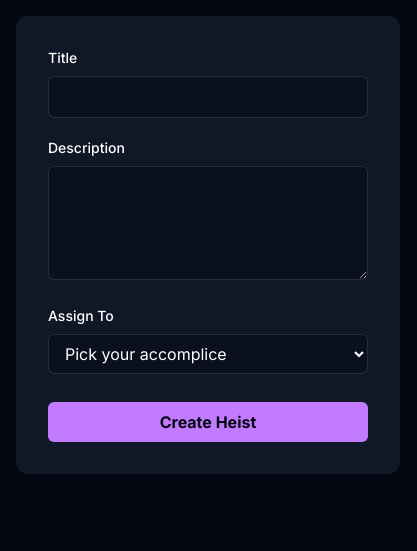
CreateHeistForm › asks for the missing pieces rather than saving a half-built heist
In the field labelled "Title": (208, 97) x1=48 y1=76 x2=368 y2=118, type "Liberate the good stapler"
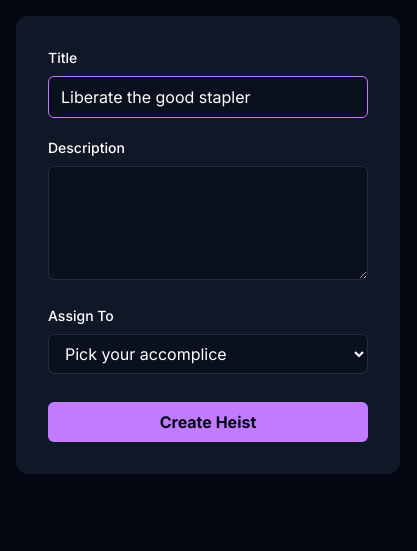
Click the button "Create Heist": (208, 422) x1=48 y1=402 x2=368 y2=442
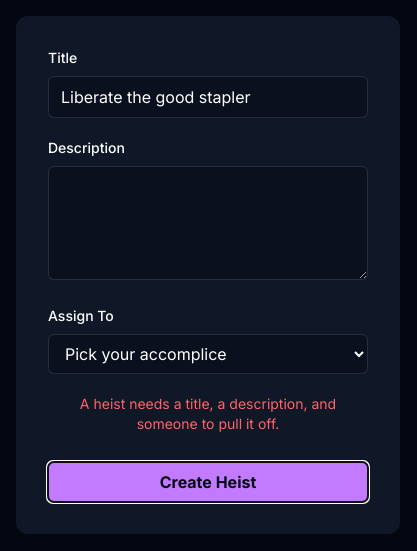
expect the message reads "A heist needs a title, a description, and someone to pull it off.": met, box x1=80 y1=395 x2=336 y2=432
